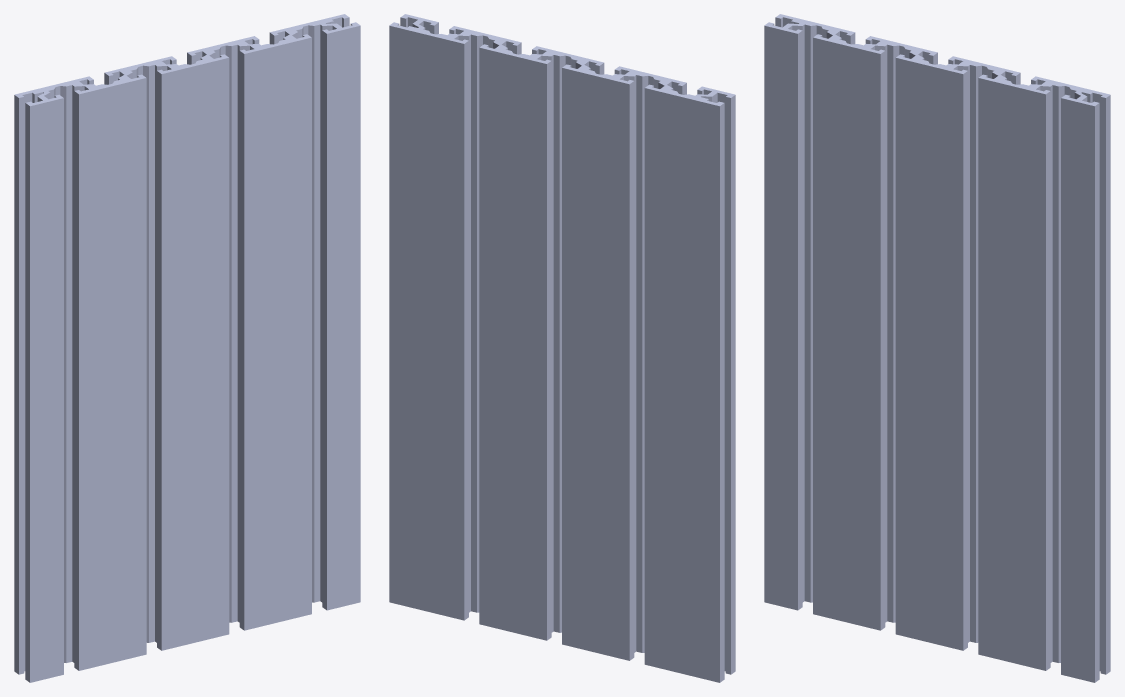
The model's file is plate.FBX.
3 renders of one model, left to right at view 1: azimuth 30°, elevation 25°; view 2: azimuth 150°, elevation 25°; view 3: azimuth 330°, elevation 25°, orthographic.
Parts seen in each view (by area): view 1: stitch_result_stitch all; view 2: stitch_result_stitch all; view 3: stitch_result_stitch all.
Boxes of the visible parts, x1,y1,x2,y2 form: stitch_result_stitch all: (14,14,360,682); stitch_result_stitch all: (389,14,735,682); stitch_result_stitch all: (764,14,1110,682).
Size of the model in its own units: 7.09 by 11.81 by 0.5906.
